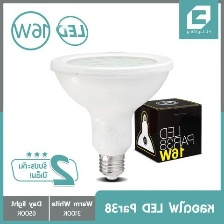book: (129, 94, 204, 169)
light_bulb: (46, 48, 178, 182)
